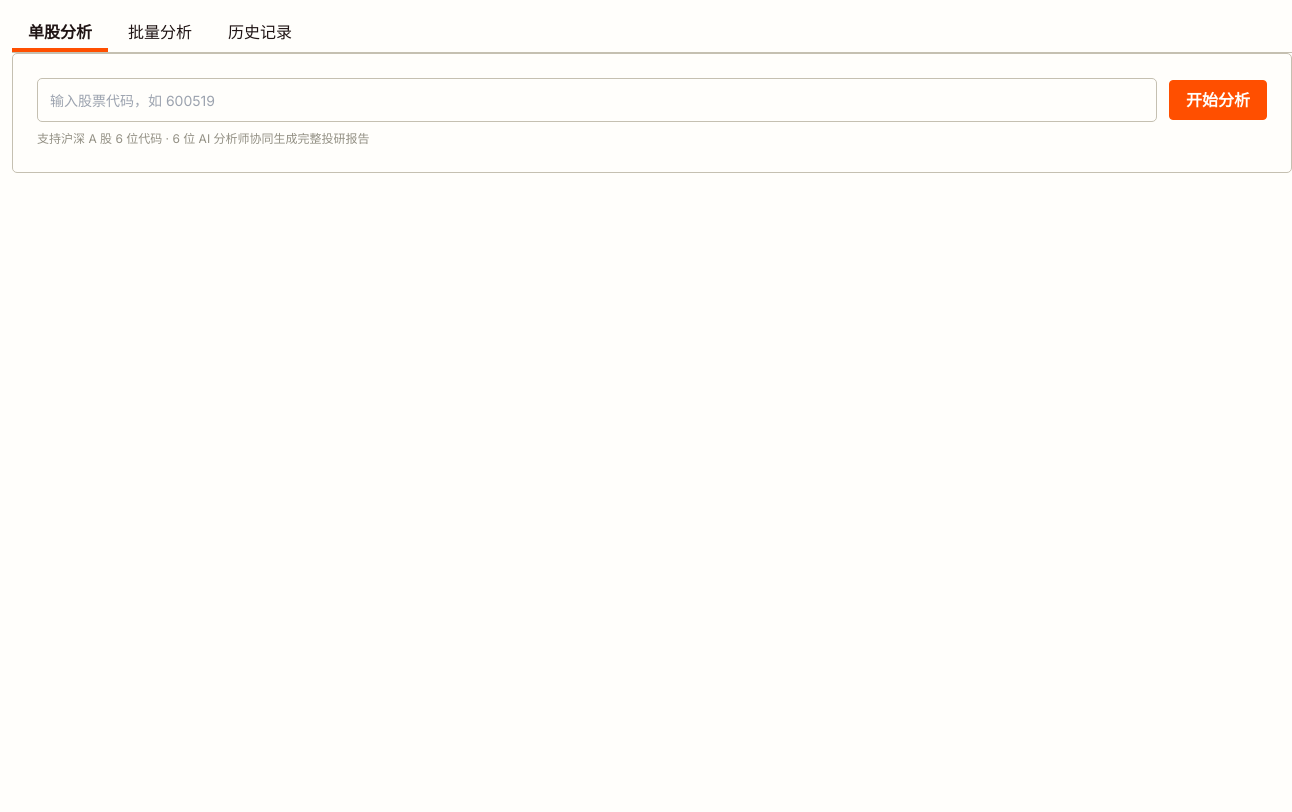
Test: Analysis progressive task rendering › renders a validated completed analyst result before the whole task succeeds
In the field with placeholder "输入股票代码，如 600519": point(597, 100) [37, 78, 1157, 122], type "600519"
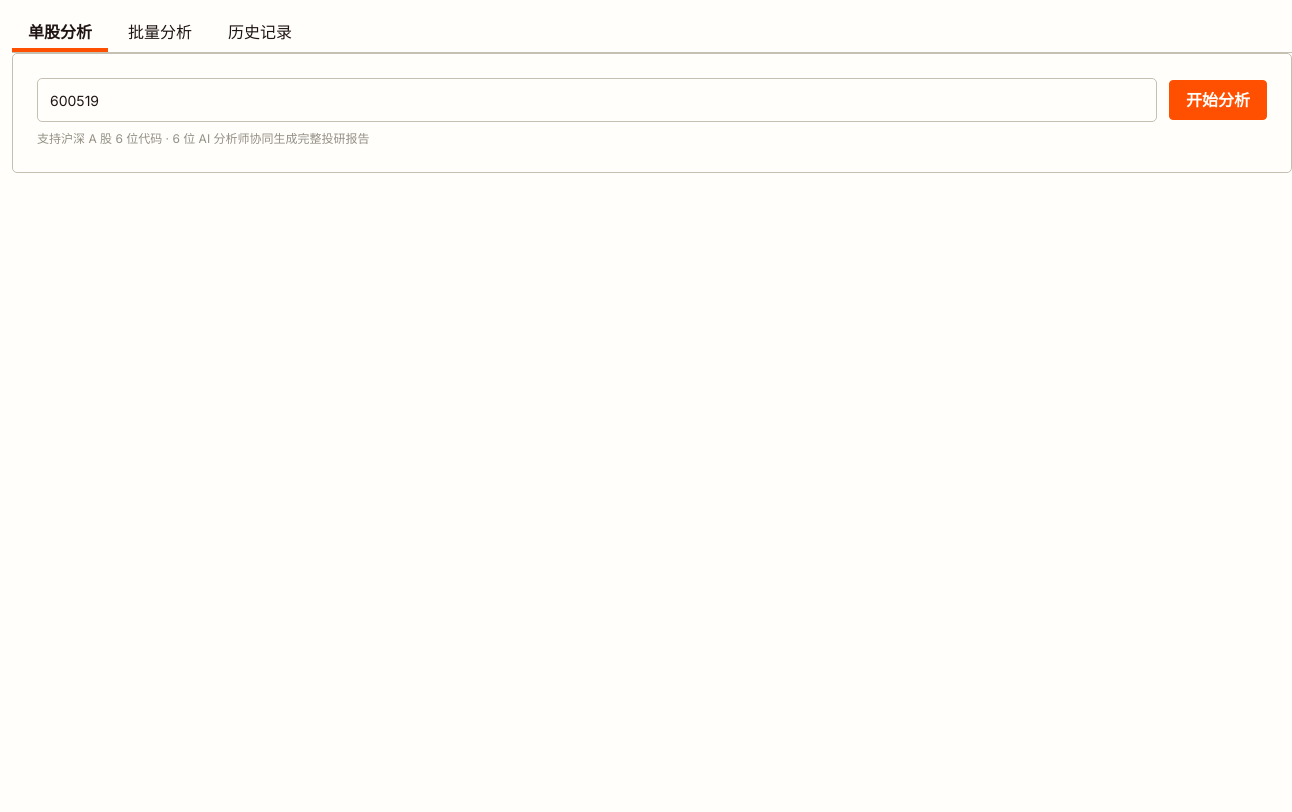
Click the button "开始分析": point(1218, 100) [1169, 80, 1267, 120]
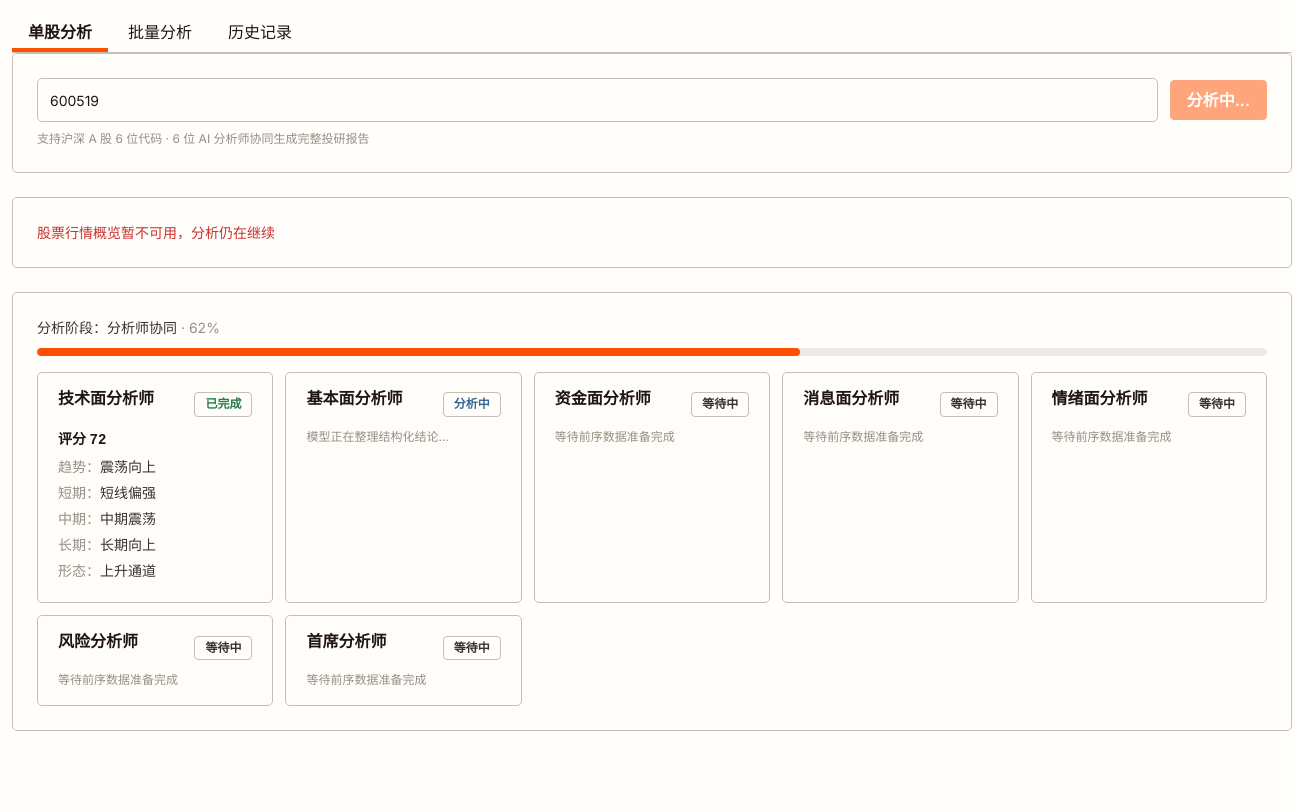
Result: the heading "技术面分析师" is shown at [58, 389, 154, 408]
Result: the text "震荡向上" is shown at [100, 458, 156, 475]
Result: the text "短期：" is shown at [58, 484, 100, 501]
